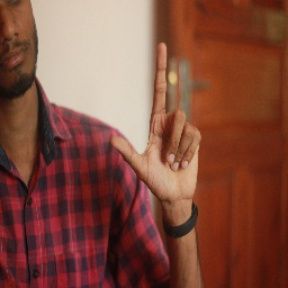L: (109, 42, 204, 200)
